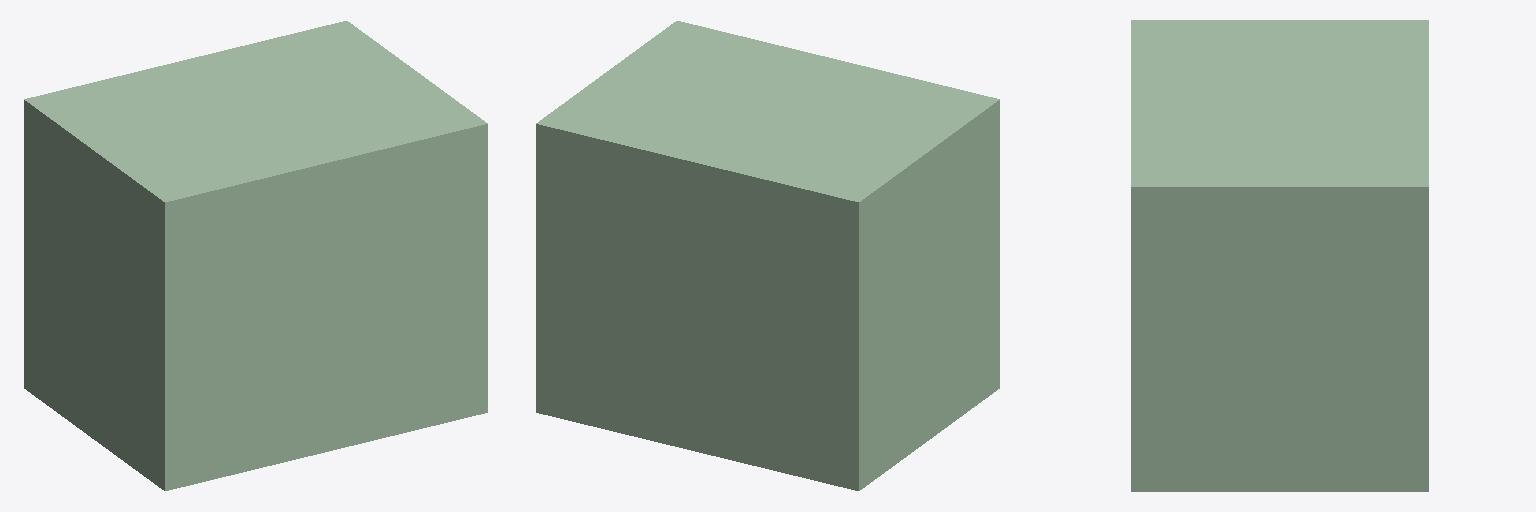
The robot description file, URDF, robot "box.urdf":
<?xml version="1.0" ?>
<robot name="box.urdf">
  <link name="baseLink">
    <contact>
      <lateral_friction value="1.0"/>
      <rolling_friction value="0.0001"/>
      <inertia_scaling value="3.0"/>
    </contact>
    <inertial>
      <origin rpy="0 0 0" xyz="0 0 0"/>
       <mass value="0.1"/>
       <inertia ixx="1" ixy="0" ixz="0" iyy="1" iyz="0" izz="1"/>
    </inertial>
    <visual>
      <origin rpy="0 0 0" xyz="0 0 0"/>
      <geometry>
        <!-- <box size="0.295 0.223 0.252"/> -->
        <mesh filename="box/box.obj" scale="0.295 0.223 0.252"/>
      </geometry>
      <material name="white">
        <color rgba="0.7 0.8 0.7 1"/>
      </material>
    </visual>
    <collision>
      <origin rpy="0 0 0" xyz="0 0 0"/>
      <geometry>
        <mesh filename="box/box.obj" scale="0.295 0.223 0.252"/>
	 	    <!-- <box size="0.295 0.223 0.252"/> -->
      </geometry>
    </collision>
  </link>
</robot>

--- Facts derived from the render (not from the file) ---
Views: 3 orthographic renders of the robot side by side, from view 1: azimuth 30°, elevation 25°; view 2: azimuth 150°, elevation 25°; view 3: azimuth 270°, elevation 25°.
Model box.urdf with 1 links and 0 joints (none), rooted at baseLink, posed every joint at zero.
Visible links, largest first — view 1: baseLink; view 2: baseLink; view 3: baseLink.
Boxes of the visible links, x1,y1,x2,y2 form: baseLink: (24,21,487,490); baseLink: (536,21,999,490); baseLink: (1131,20,1428,491).
Size in the robot's own frame: 0.295 by 0.223 by 0.252 metres.
1 mesh visuals loaded from 1 distinct referenced files (1 OBJ).
